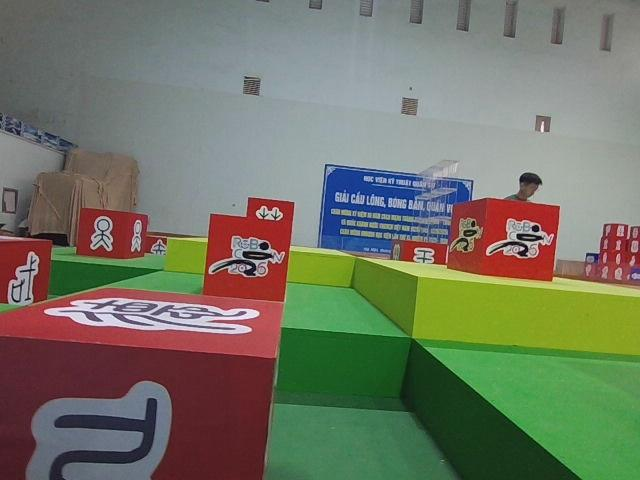R1: (448, 193, 560, 289), (204, 213, 291, 302)
R2 Fake: (0, 289, 282, 480)
R2 Real: (73, 209, 147, 261), (0, 237, 53, 307)
